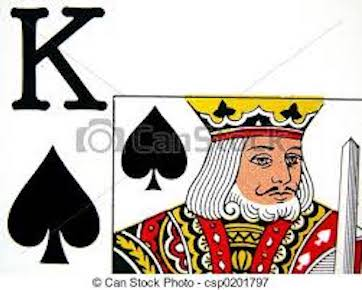KingOfSpades: (1, 1, 362, 275)
